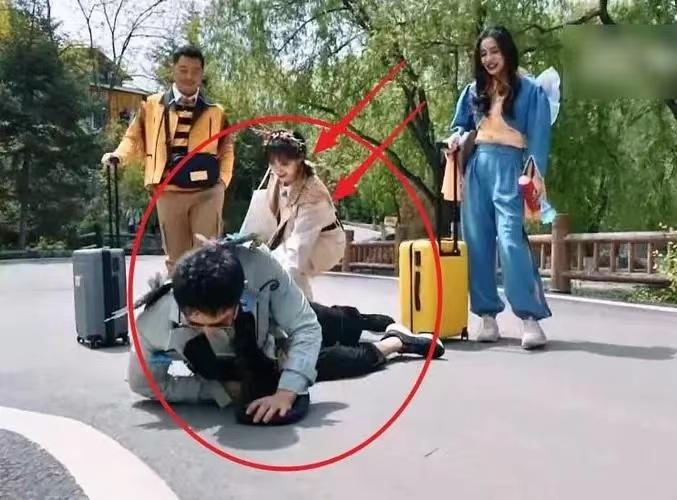bending: (251, 125, 359, 303)
down: (117, 239, 450, 422)
up: (438, 25, 559, 354), (110, 39, 226, 269)
